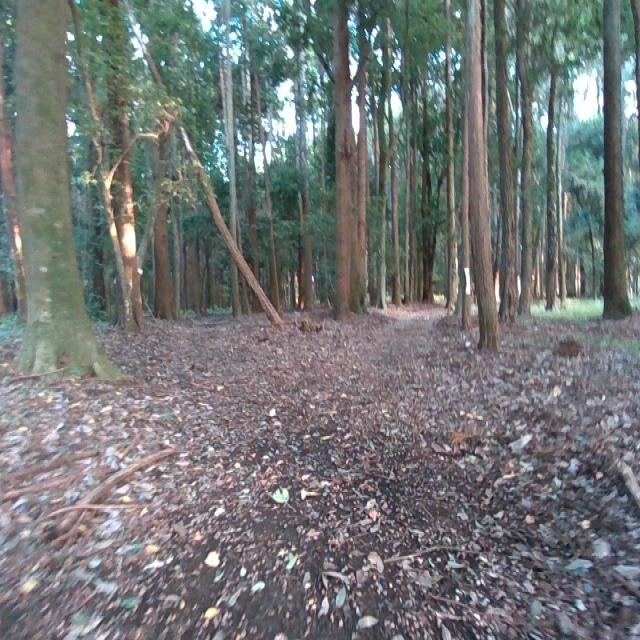tree: (0, 0, 121, 381), (151, 0, 286, 323), (80, 0, 149, 336), (466, 0, 508, 359), (330, 0, 373, 323), (484, 0, 524, 333), (596, 0, 631, 323), (153, 0, 188, 320), (542, 0, 571, 312), (290, 0, 319, 309), (372, 0, 398, 322), (515, 0, 541, 316), (439, 0, 463, 324), (418, 0, 440, 307), (386, 0, 407, 307)
